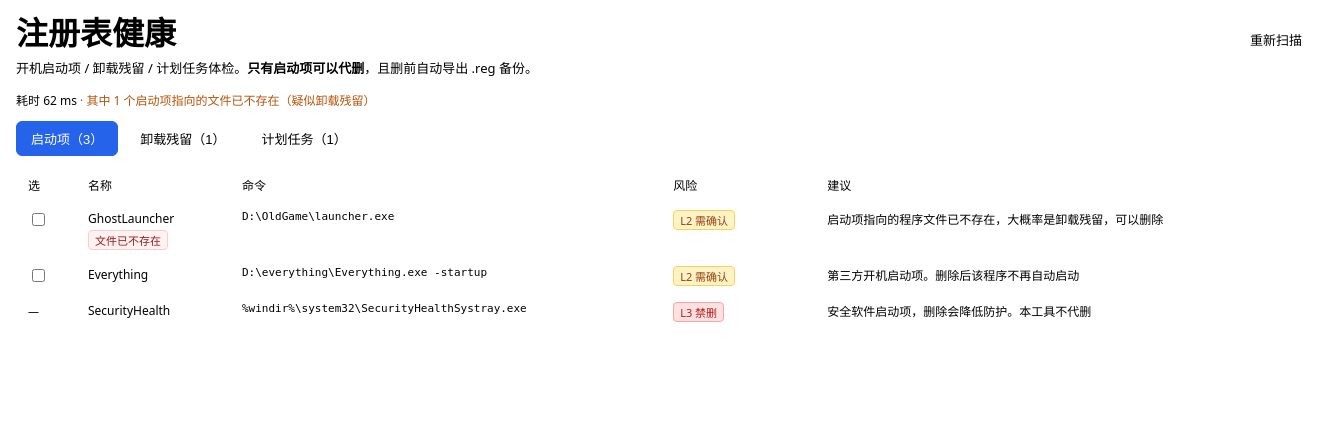
Scenario: 注册表健康中心 › 结果里必须显示备份文件路径
The width and height of the screenshot is (1335, 442).
Expected: the text "GhostLauncher" is shown, [88,210,174,227]
Click the checkbox named "选择 GhostLauncher" at (38, 220), box [32,213,45,226]
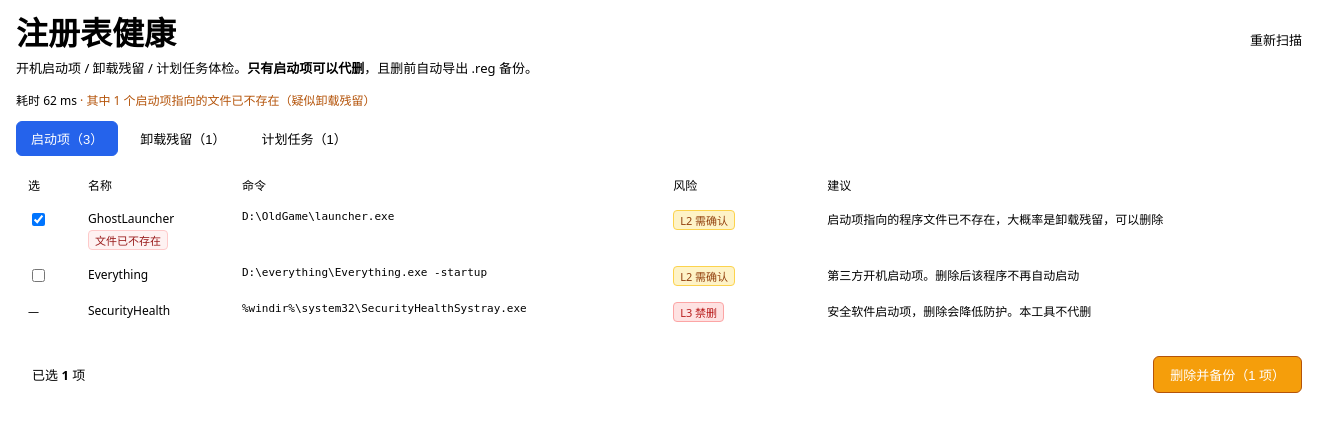
Click the button "删除并备份（1 项）" at (1228, 374), box [1153,356,1302,393]
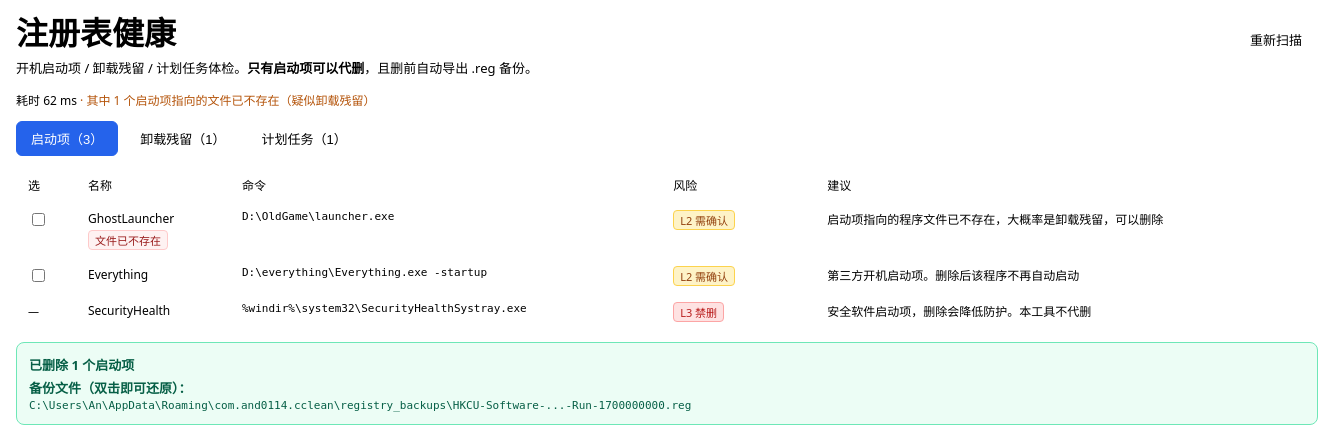
Expected: the text "已删除 1 个启动项" is shown, [29,356,134,374]
Expected: the text "备份文件（双击即可还原）：" is shown, [29,379,192,397]
Expected: the text "registry_backups" is shown, [29,399,691,412]
